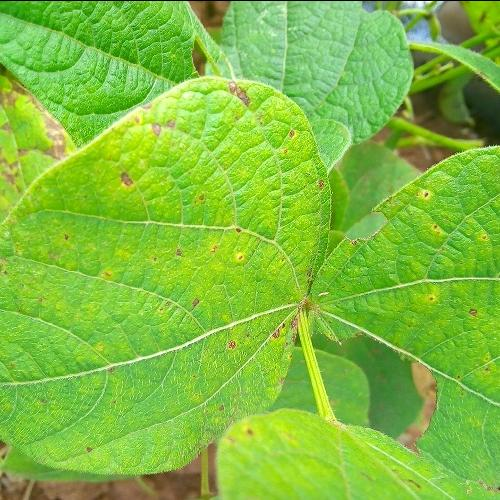hawar: (408, 172, 492, 340), (216, 229, 296, 373), (118, 104, 176, 213)
sehat: (17, 6, 175, 88), (238, 8, 402, 83)
